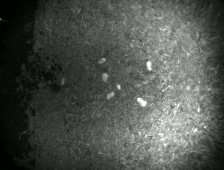corn: (134, 95, 148, 109), (98, 71, 111, 85), (103, 89, 117, 101), (95, 55, 108, 67), (145, 59, 155, 73), (114, 81, 123, 92), (59, 75, 67, 87)
